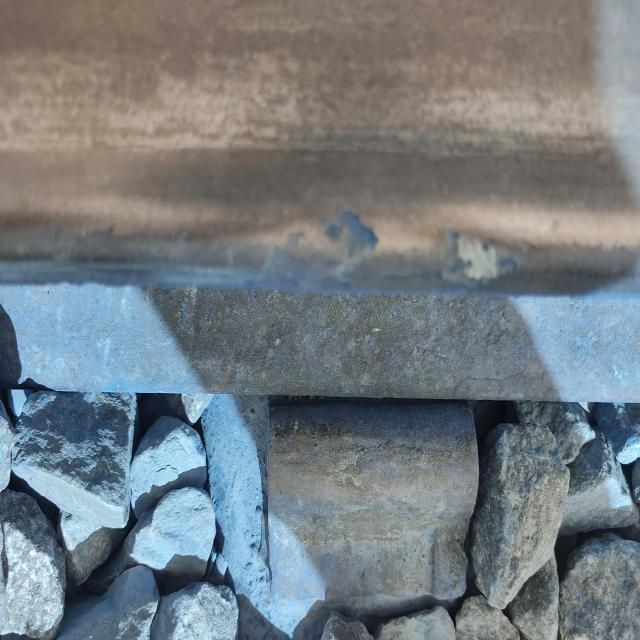Missing Fastener: (233, 356, 494, 640)
